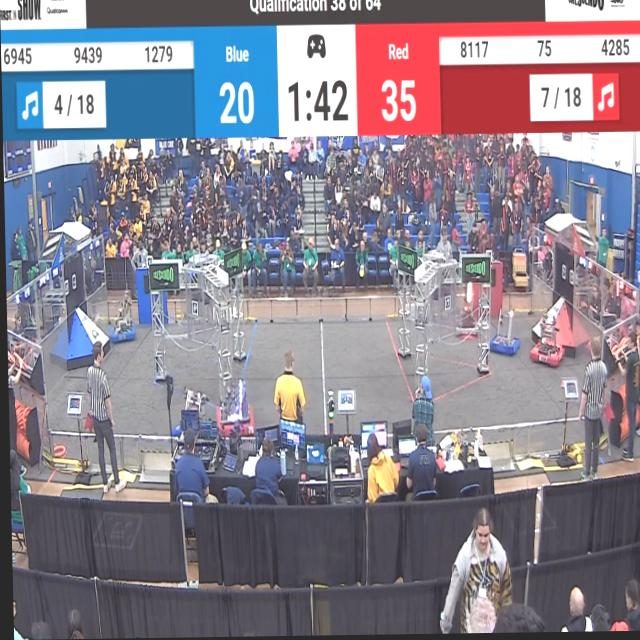Robot: (215, 373, 255, 441), (171, 381, 213, 442), (528, 309, 567, 373), (449, 277, 481, 345), (487, 309, 518, 362), (108, 297, 135, 348)
